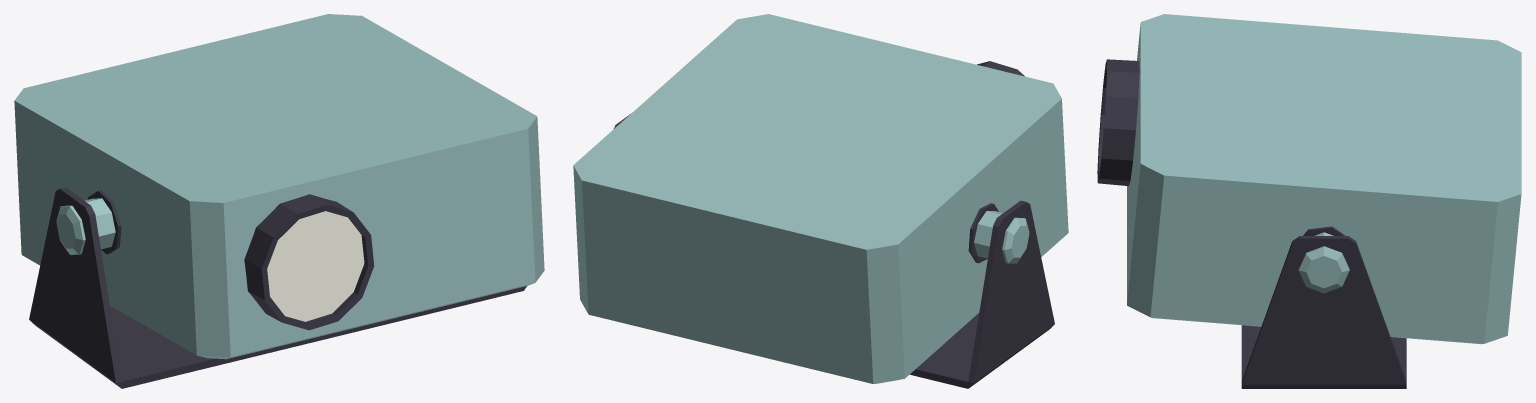
Rendered from Prop_Projector.fbx.
3 renders of one model, left to right at view 1: azimuth 30°, elevation 25°; view 2: azimuth 150°, elevation 25°; view 3: azimuth 270°, elevation 25°, orthographic. The views are drawn at different scales.
Parts seen in each view (by area): view 1: Prop_Projector; view 2: Prop_Projector; view 3: Prop_Projector.
Boxes of the visible parts, box(x1,y1,x2,y2) form: Prop_Projector: box(14, 14, 544, 388); Prop_Projector: box(573, 14, 1068, 388); Prop_Projector: box(1097, 14, 1521, 388).
Size of the model in its own units: 41.44 by 45.85 by 21.86.
